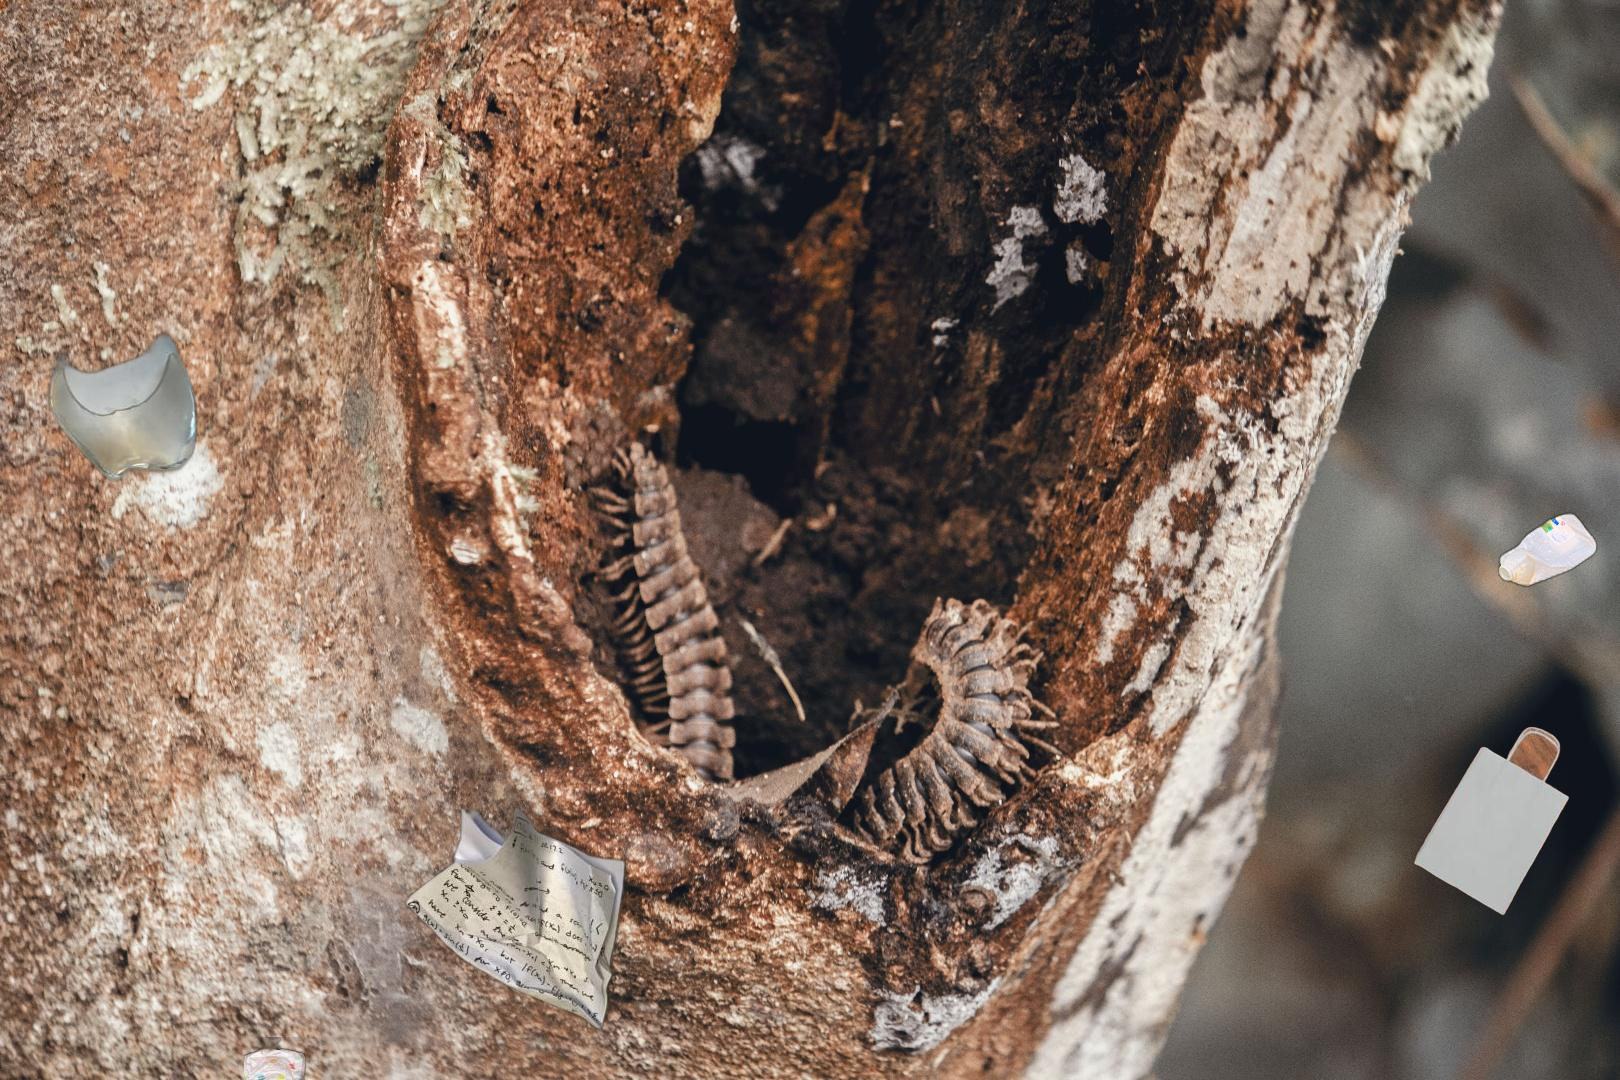glass: (45, 290, 202, 485)
paper: (400, 804, 630, 1032)
paper-bag: (1411, 724, 1571, 918)
plastic-bottles: (1493, 318, 1620, 592)
trash: (243, 1037, 427, 1080)
